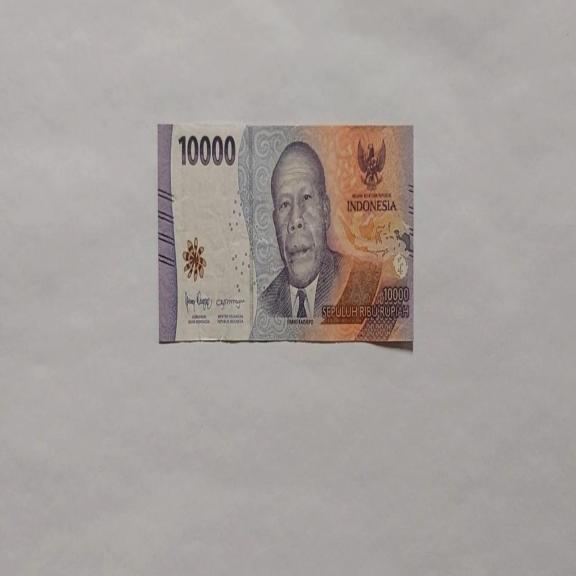Kertas: (157, 120, 415, 346), (177, 131, 236, 168)
